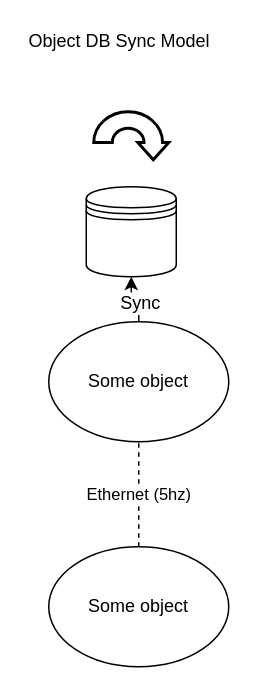
Some shapes in this 261 by 693 pixel diagram are drawn without their labels. Here are the shapes that lost their labels. From the top down, the centre of each, then its label:
At pixel 131 135: "Self Update (20 hz)".
At pixel 130 231: "Known Object's DB".
